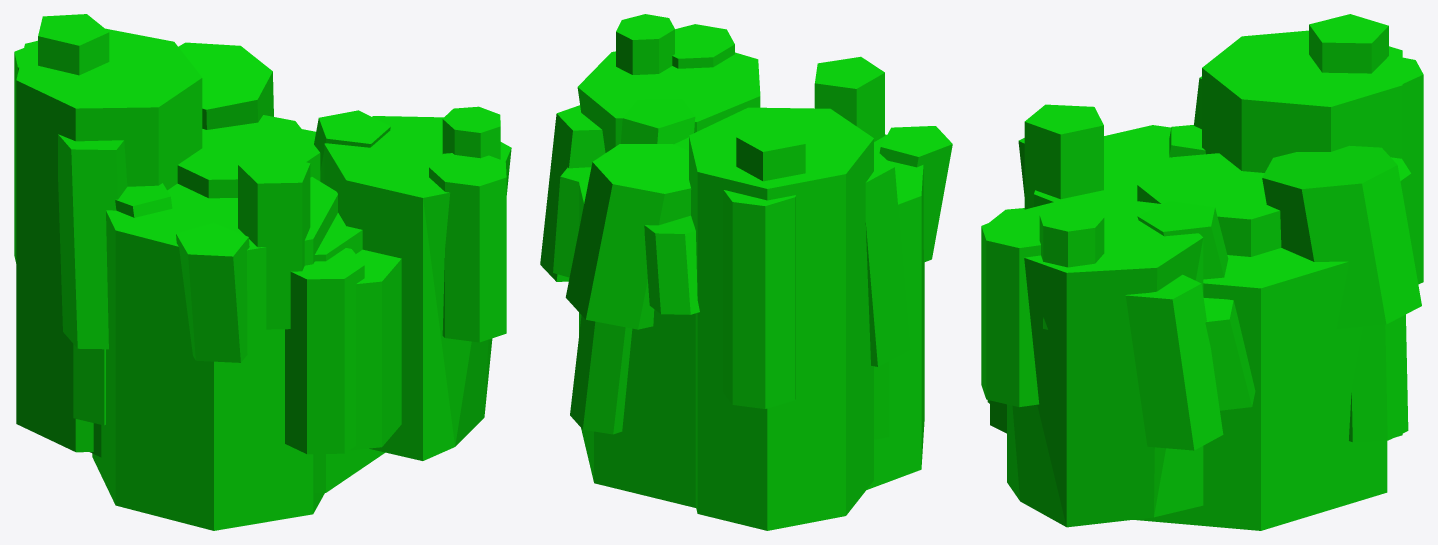
File: stone_5m (1).fbx
3 renders of one model, left to right at view 1: azimuth 30°, elevation 25°; view 2: azimuth 150°, elevation 25°; view 3: azimuth 270°, elevation 25°, orthographic. The views are drawn at different scales.
Parts seen in each view (by area): view 1: Stone 5m.001; view 2: Stone 5m.001; view 3: Stone 5m.001.
Part boxes in pixels (x1=…): Stone 5m.001: x1=14, y1=14, x2=511, y2=530; Stone 5m.001: x1=540, y1=14, x2=952, y2=530; Stone 5m.001: x1=981, y1=14, x2=1423, y2=530.
Bounding box in the file's own units: 500 × 500 × 500.
